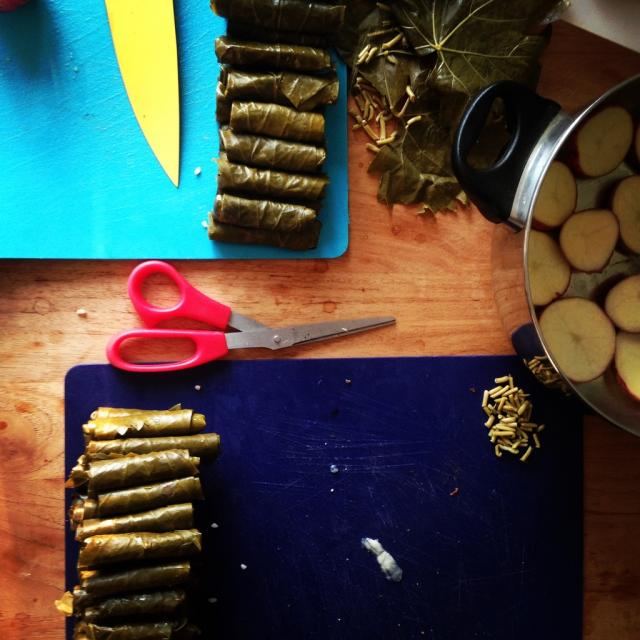knife: (36, 0, 206, 198)
scissors: (106, 260, 396, 372)
